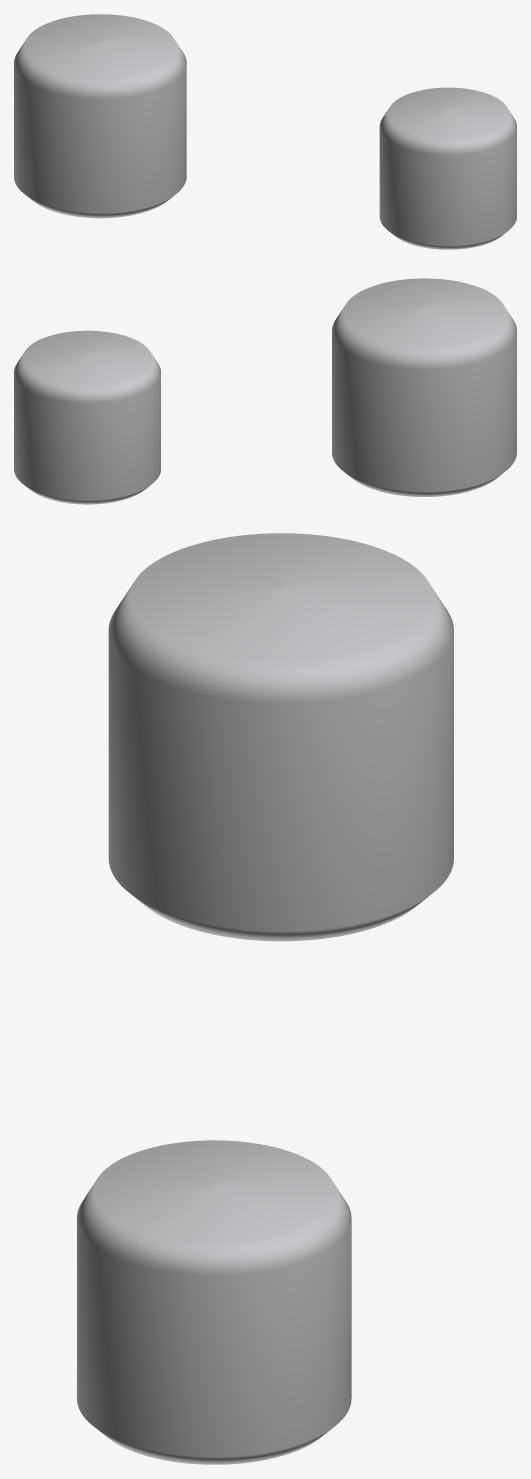
Rendered from white-set-lid.glb.
3 renders of one model, top to bottom at view 1: azimuth 30°, elevation 25°; view 2: azimuth 150°, elevation 25°; view 3: azimuth 270°, elevation 25°, orthographic. The views are drawn at different scales.
Size of the model in its own units: 1.6 by 0.8266 by 0.562.
Materials: 1 (1 with a texture image).
